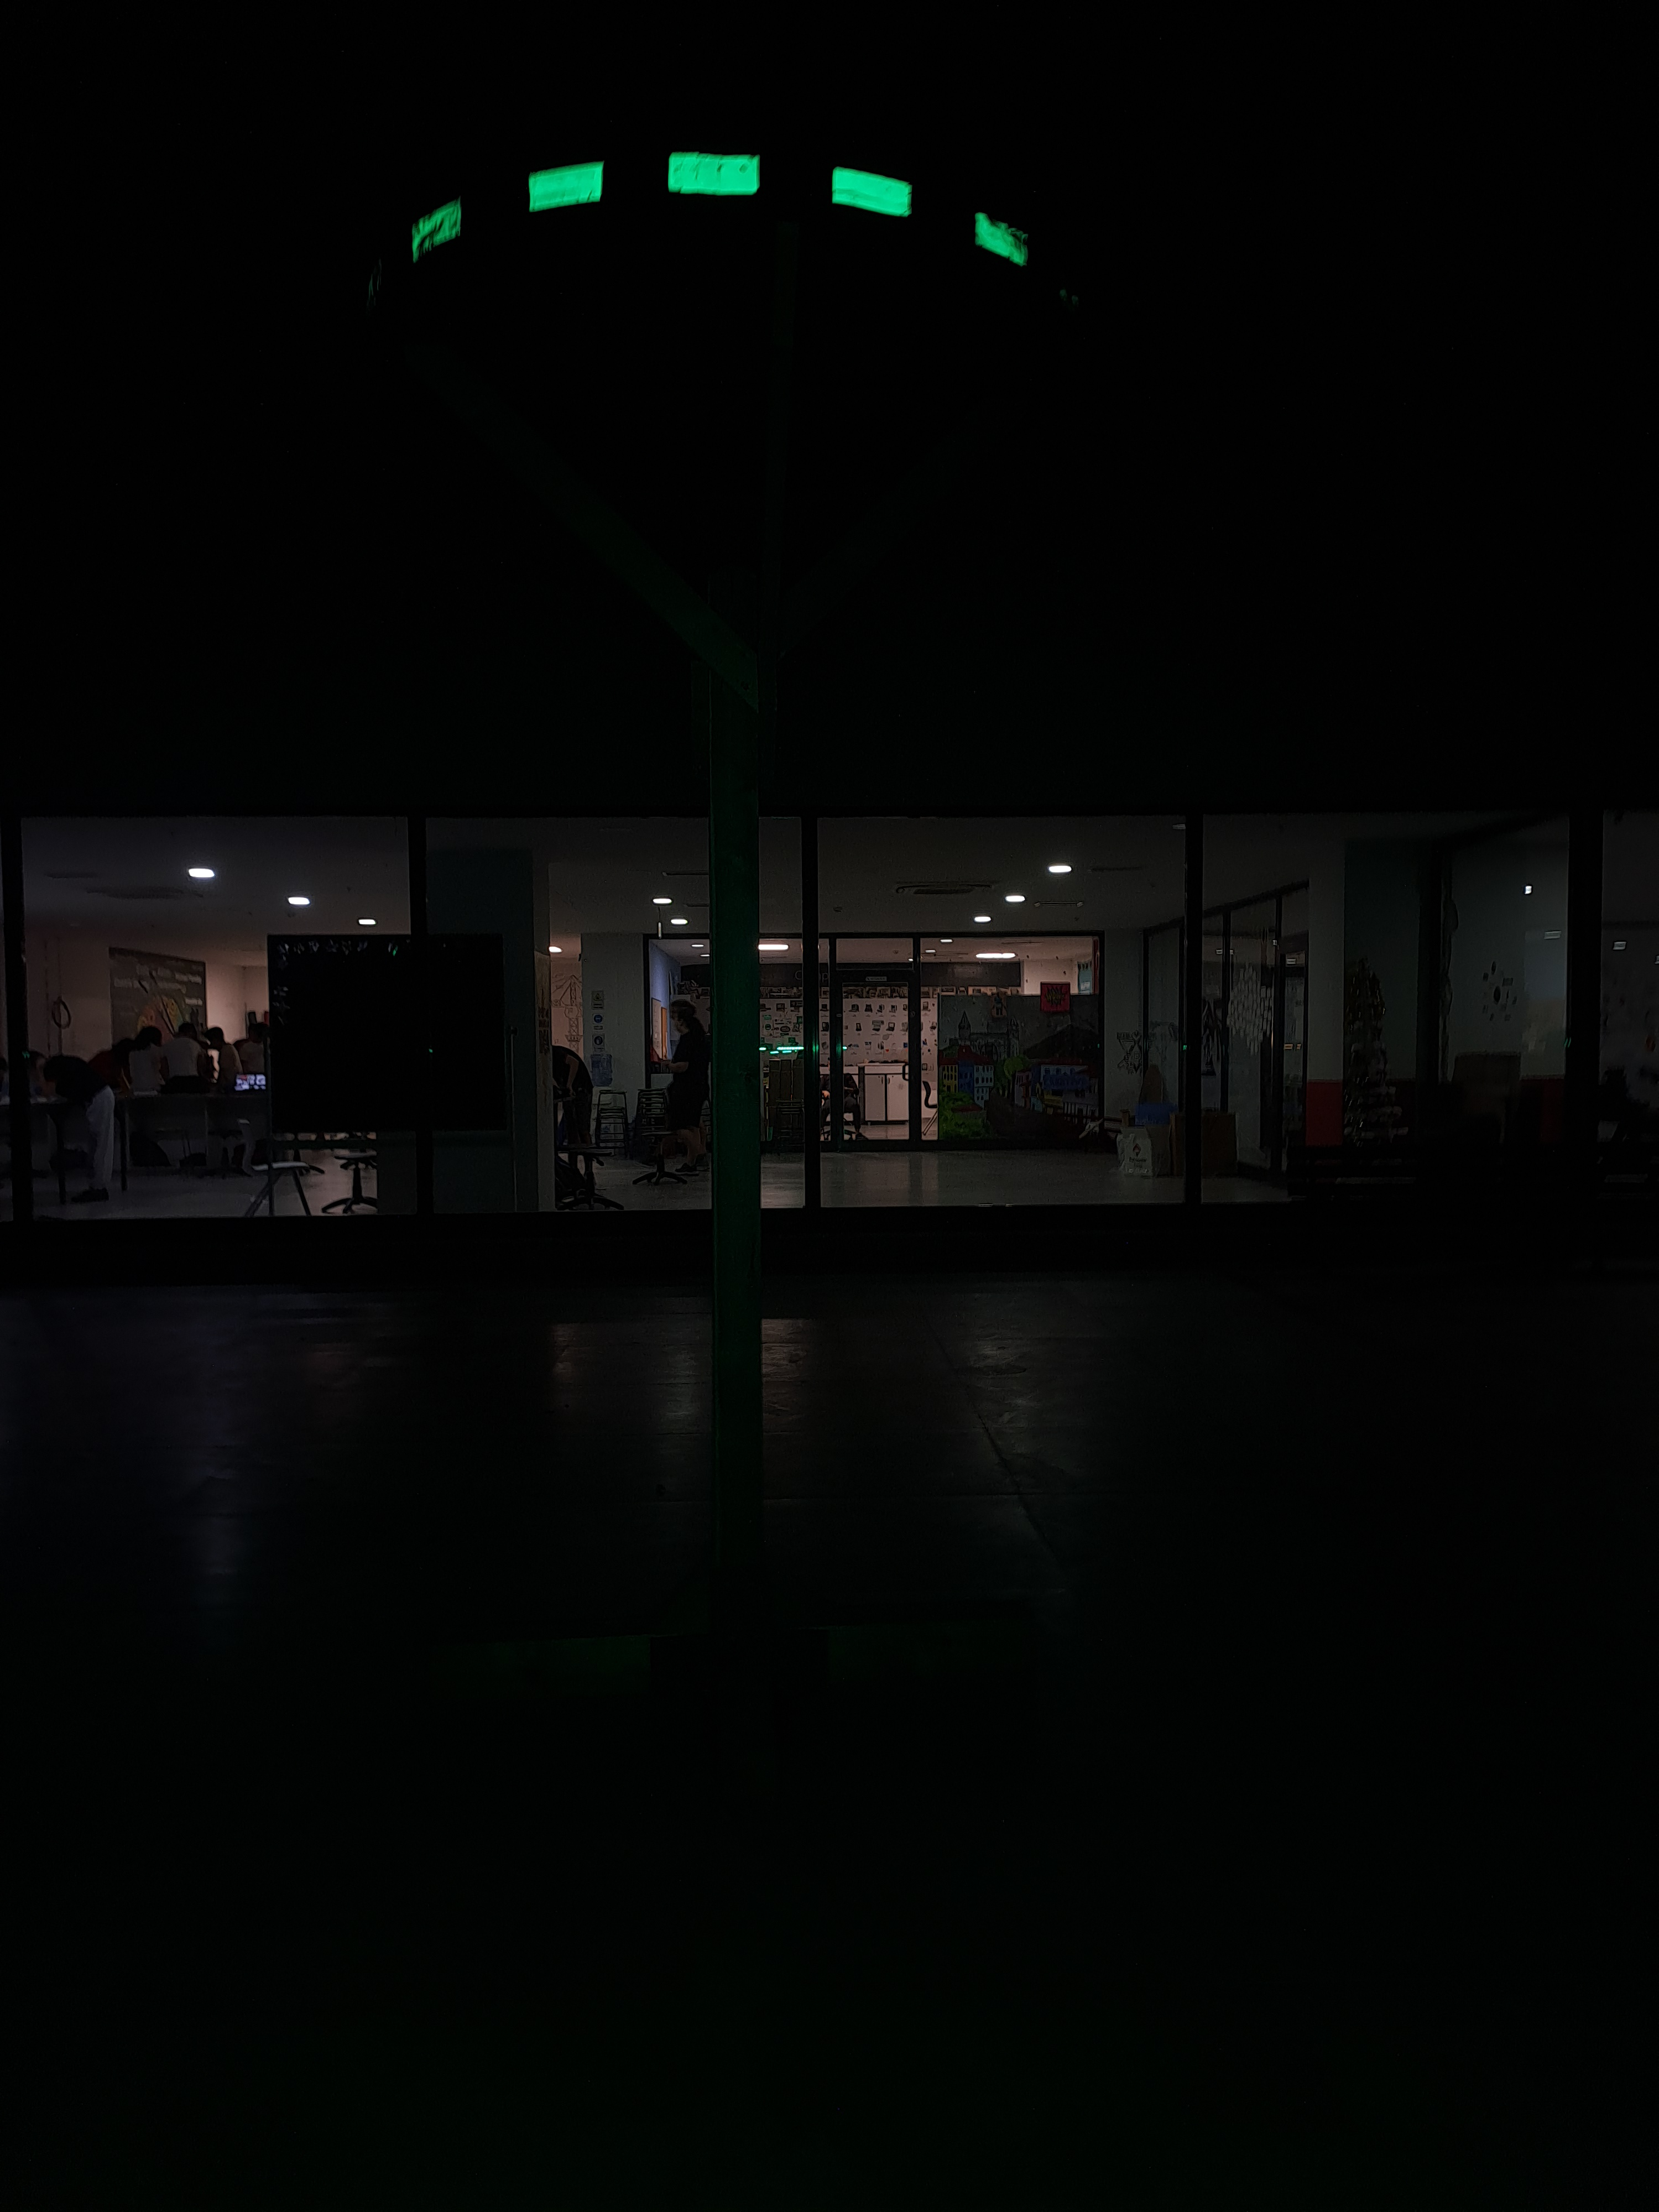hoop: (411, 146, 1028, 277)
